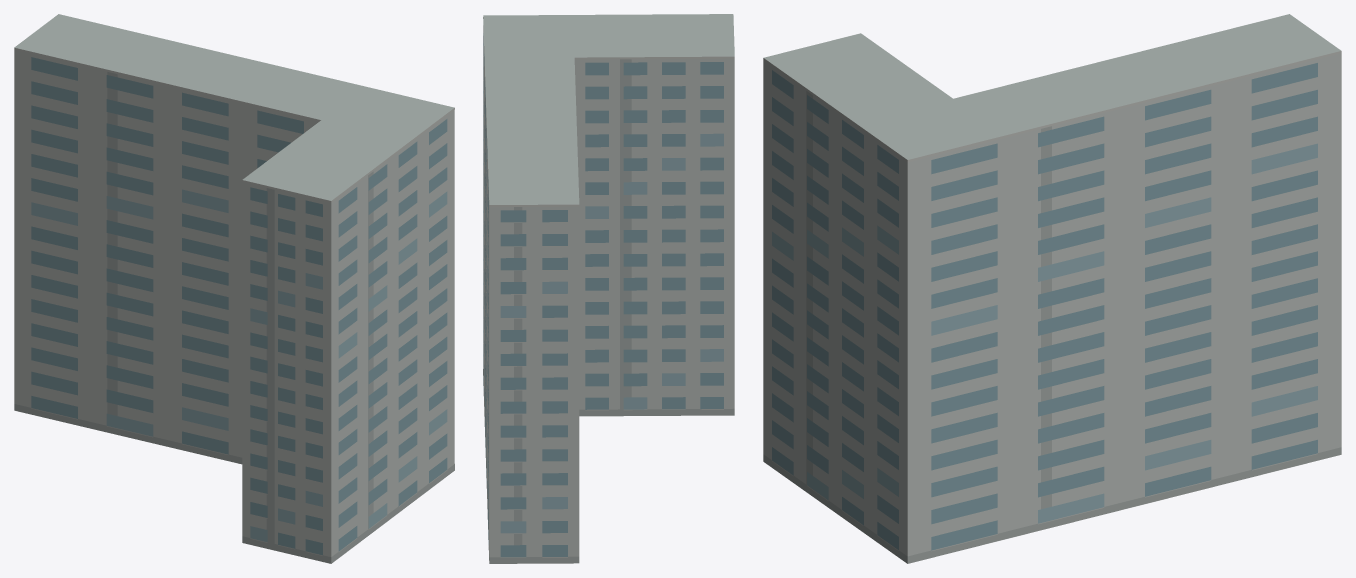
File: residential-ff05f6b8-d68c-4b3c-9060-a26bce7ecea6.glb
3 renders of one model, left to right at view 1: azimuth 30°, elevation 25°; view 2: azimuth 150°, elevation 25°; view 3: azimuth 270°, elevation 25°, orthographic. The views are drawn at different scales.
Parts seen in each view (by area): view 1: residential-ff05f6b8-d68c-4b3c-9060-a26bce7ecea6.tmp; view 2: residential-ff05f6b8-d68c-4b3c-9060-a26bce7ecea6.tmp; view 3: residential-ff05f6b8-d68c-4b3c-9060-a26bce7ecea6.tmp.
Part boxes in pixels (x1,y1,x2,y2): residential-ff05f6b8-d68c-4b3c-9060-a26bce7ecea6.tmp: [14, 14, 454, 563]; residential-ff05f6b8-d68c-4b3c-9060-a26bce7ecea6.tmp: [483, 14, 734, 563]; residential-ff05f6b8-d68c-4b3c-9060-a26bce7ecea6.tmp: [763, 14, 1341, 563].
Size of the model in its own units: 31.8 by 41 by 53.2.
